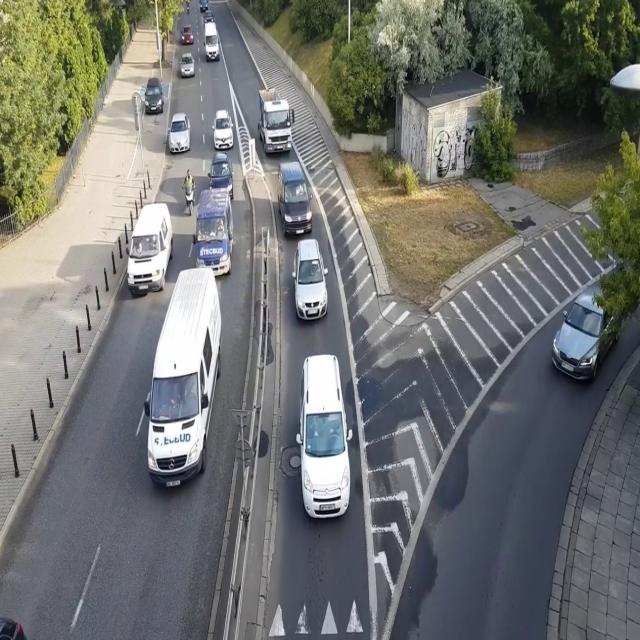car: (552, 280, 626, 382), (291, 238, 328, 322), (208, 149, 234, 203), (168, 113, 193, 154), (212, 109, 233, 149), (144, 78, 164, 115), (179, 52, 196, 78), (180, 24, 193, 44), (202, 11, 215, 24), (197, 0, 209, 12)
motorcycle: (181, 168, 196, 218), (185, 0, 191, 13)
truck: (256, 86, 294, 156)
van: (145, 269, 222, 493), (297, 354, 353, 529), (125, 201, 175, 298), (191, 188, 235, 282), (277, 158, 314, 239), (203, 22, 221, 66)
